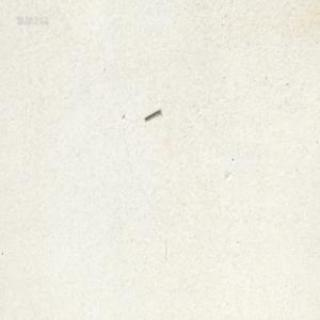Bolttrack_idkeyframe: (142, 106, 160, 120)
